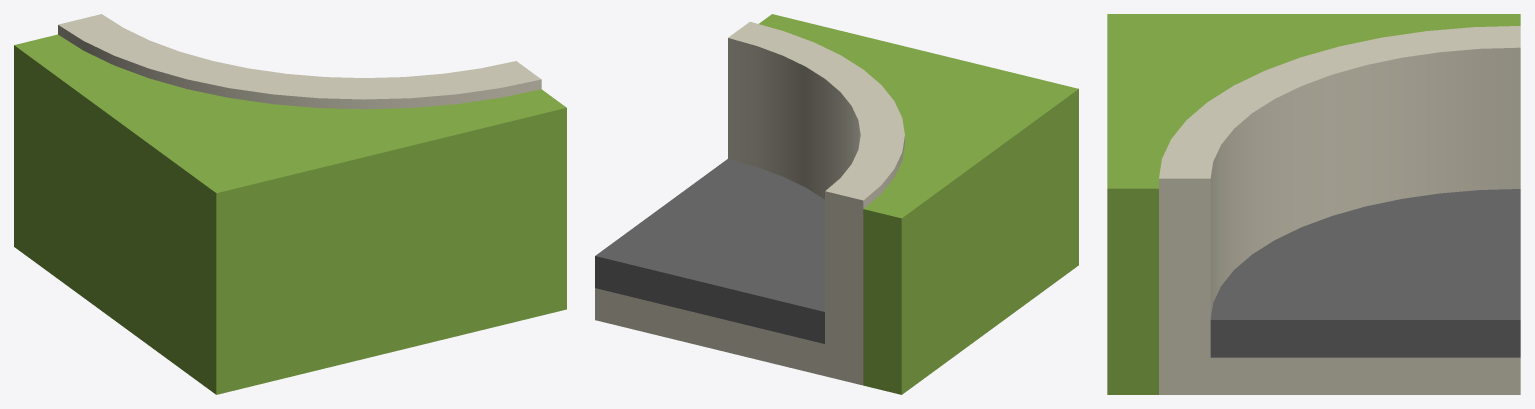
Rendered from road-thick-round-curb.obj.
The picture shows the model from 3 angles, left to right: view 1: azimuth 30°, elevation 25°; view 2: azimuth 150°, elevation 25°; view 3: azimuth 270°, elevation 25°; orthographic projection. The views are drawn at different scales.
Parts seen in each view (by area): view 1: Mesh1_Group1_Model.043; view 2: Mesh1_Group1_Model.043; view 3: Mesh1_Group1_Model.043.
Part boxes in pixels (x1,y1,x2,y2): Mesh1_Group1_Model.043: [14, 14, 566, 394]; Mesh1_Group1_Model.043: [595, 14, 1078, 394]; Mesh1_Group1_Model.043: [1107, 14, 1520, 394].
Size of the model in its own units: 3 by 1.73 by 3.
